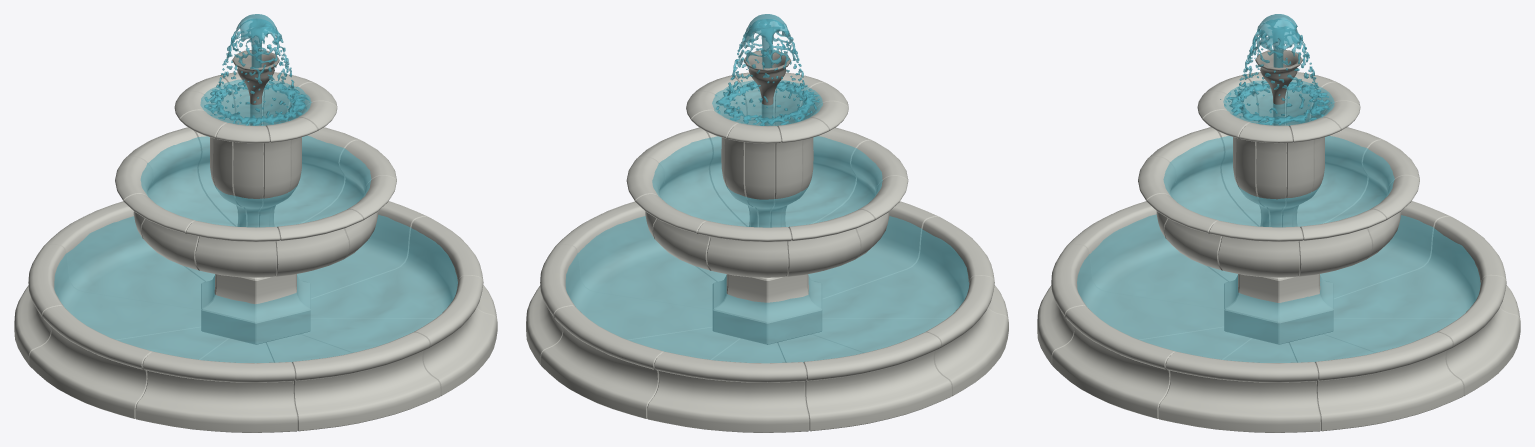
File: fountain.fbx
3 renders of one model, left to right at view 1: azimuth 30°, elevation 25°; view 2: azimuth 150°, elevation 25°; view 3: azimuth 270°, elevation 25°, orthographic.
Visible parts, largest first — view 1: fountain_1; view 2: fountain_1; view 3: fountain_1.
Boxes of the visible parts, left/top/right/bottom form: fountain_1: left=14, top=14, right=497, bottom=432; fountain_1: left=526, top=14, right=1008, bottom=432; fountain_1: left=1037, top=14, right=1520, bottom=432.
Bounding box in the file's own units: 523 × 375 × 523.
